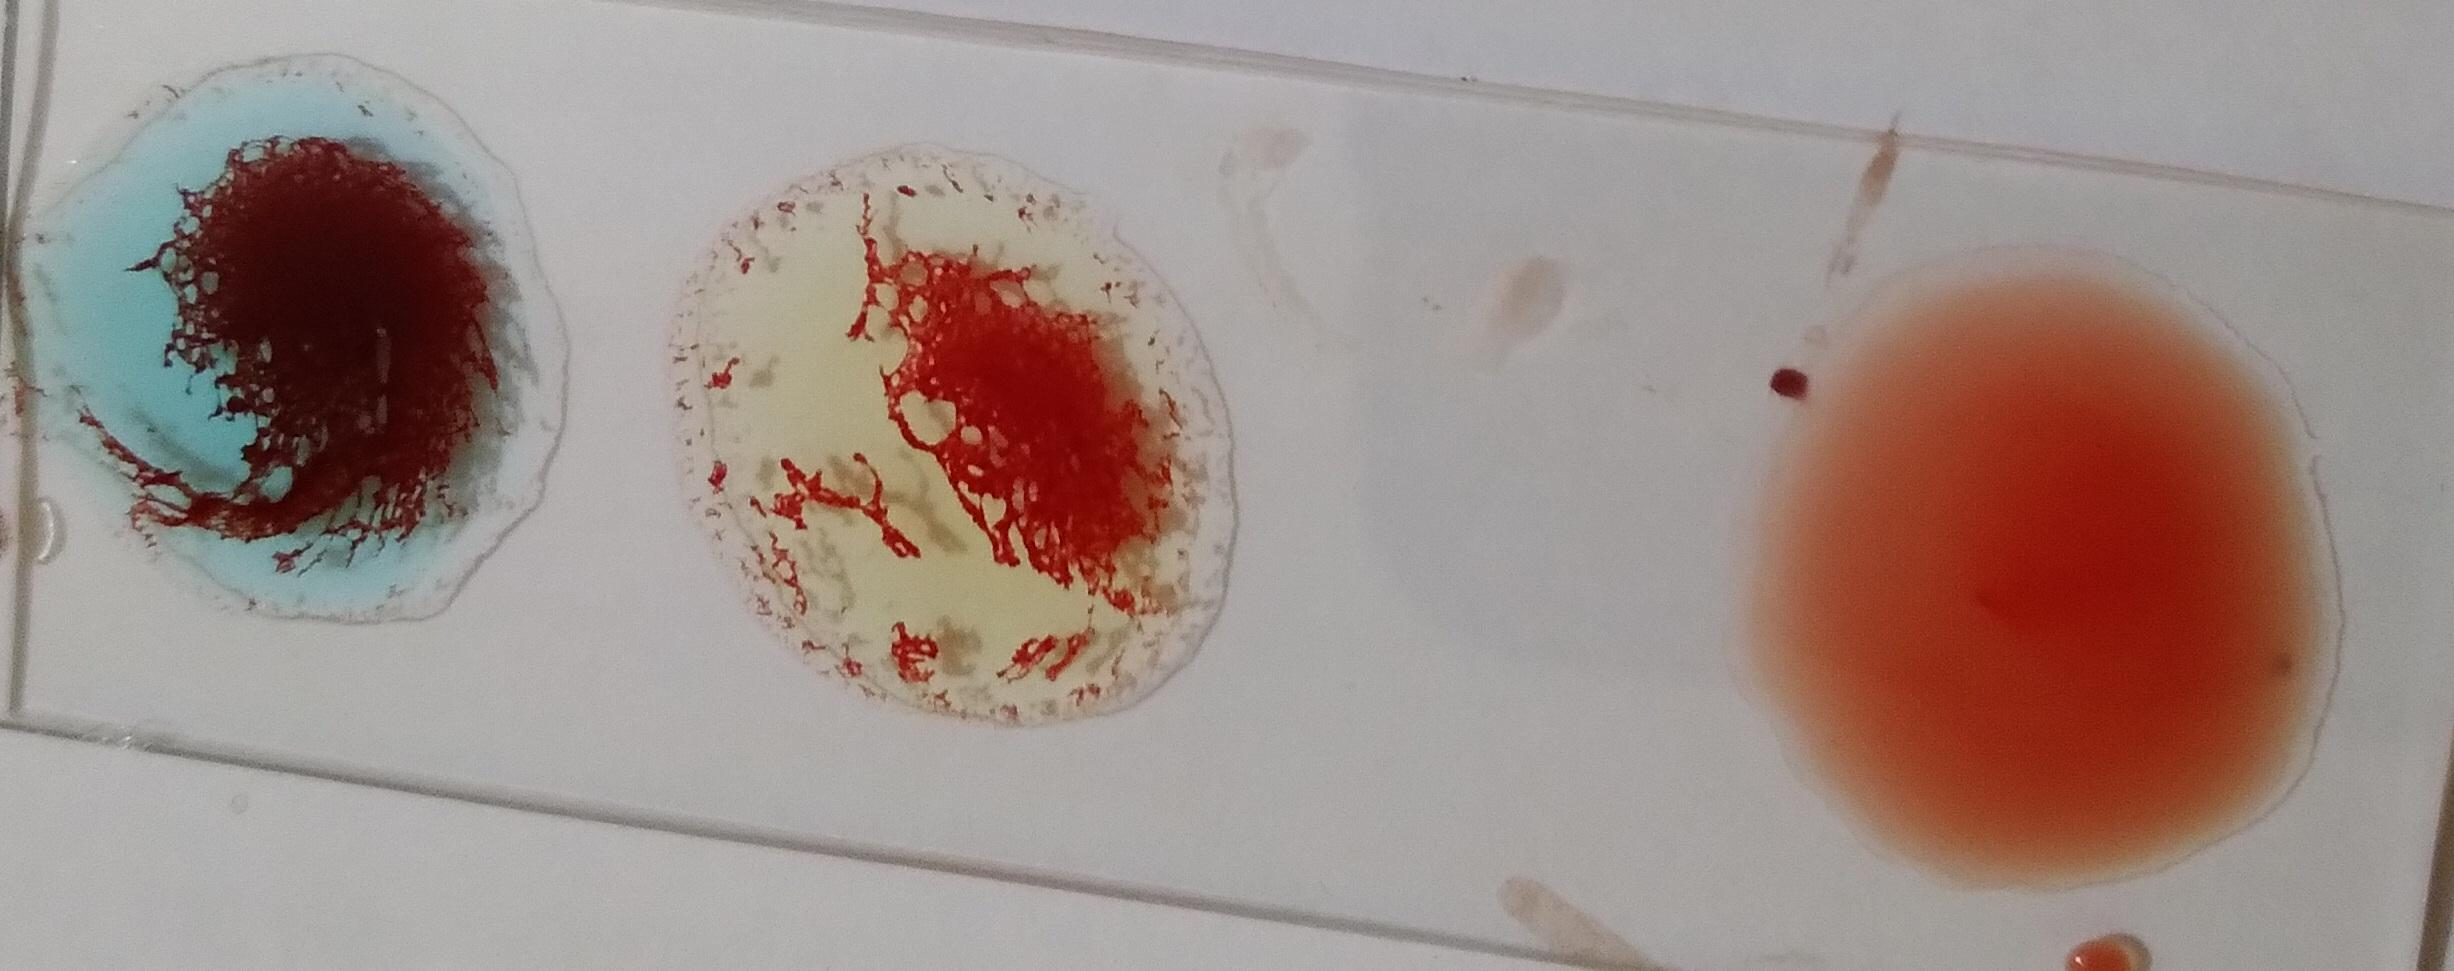A: (25, 45, 578, 622)
B: (670, 152, 1240, 728)
